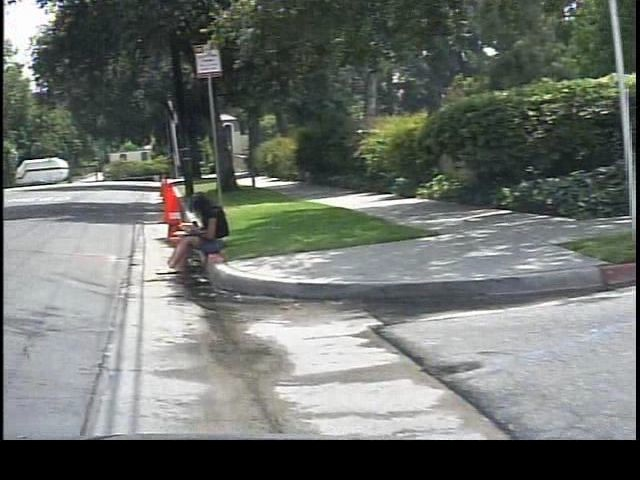person: (147, 186, 228, 277)
